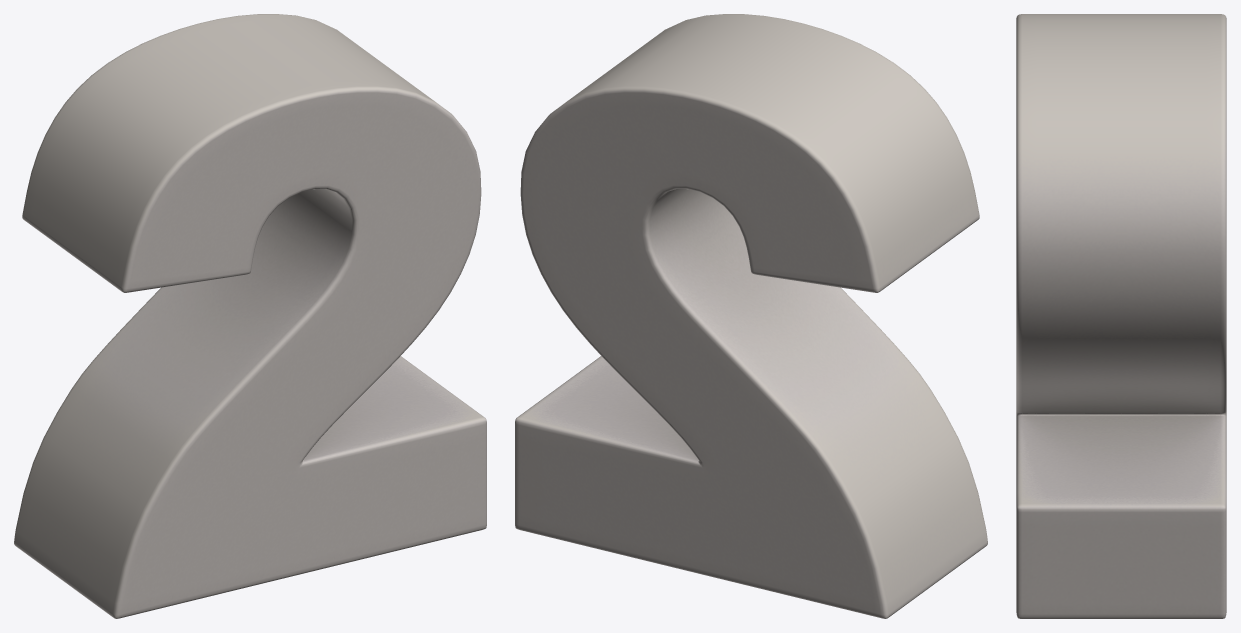
File: Two.glb
The picture shows the model from 3 angles, left to right: view 1: azimuth 30°, elevation 25°; view 2: azimuth 150°, elevation 25°; view 3: azimuth 270°, elevation 25°; orthographic projection.
Visible parts, largest first — view 1: node_id63; view 2: node_id63; view 3: node_id63.
Boxes of the visible parts, box(x1,y1,x2,y2) form: node_id63: box(14, 14, 486, 618); node_id63: box(515, 14, 987, 618); node_id63: box(1016, 14, 1226, 618).
Size of the model in its own units: 0.4178 by 0.512 by 0.2008.
1 material, 1 textured.
